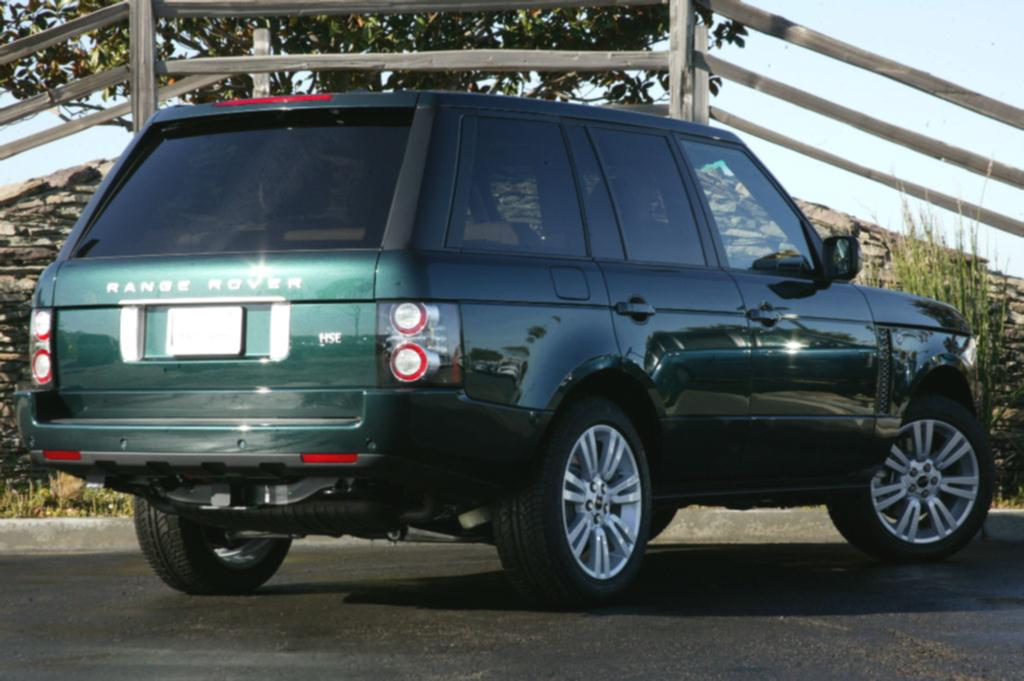range rover: (103, 269, 306, 299)
